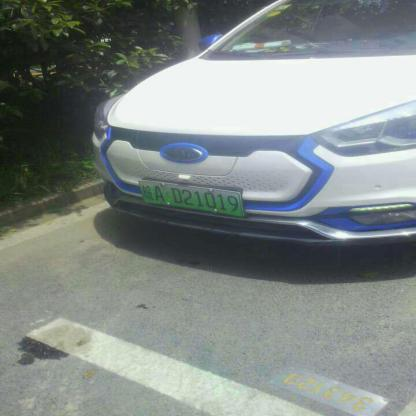lp: (139, 181, 243, 217)
